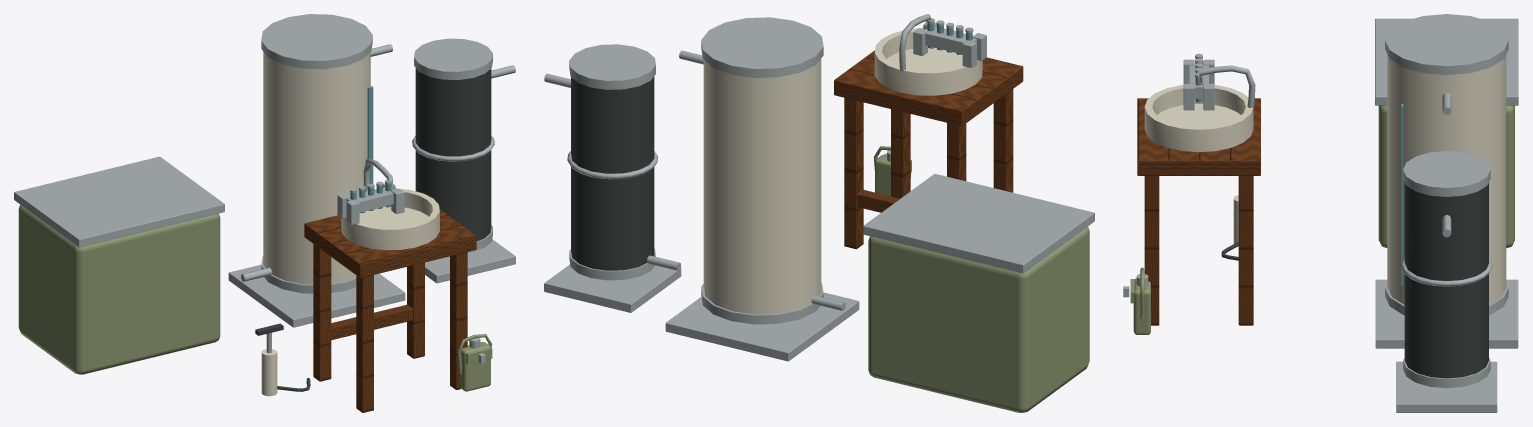
Rendered from water-collection-and-purification-water-treatment-work-0958e146__20212.glb.
3 views of the same model, side by side, from view 1: azimuth 30°, elevation 25°; view 2: azimuth 150°, elevation 25°; view 3: azimuth 270°, elevation 25° (orthographic). The views are drawn at different scales.
Visible parts, largest first — view 1: 000-settling-tank/0, 001-sand-filter-column/0, 003-wash-basin/0, 000-settling-tank/1, 002-charcoal-filter-column/0, 001-sand-filter-column/1, 002-charcoal-filter-column/1, 003-wash-basin/1, 004-sample-vial-rack/0, 005-field-canteen/0, 006-pump-filter/0, 001-sand-filter-column/2; view 2: 000-settling-tank/0, 001-sand-filter-column/0, 002-charcoal-filter-column/0, 003-wash-basin/0, 001-sand-filter-column/1, 000-settling-tank/1, 002-charcoal-filter-column/1, 003-wash-basin/1, 004-sample-vial-rack/0, 005-field-canteen/0, 003-wash-basin/2; view 3: 001-sand-filter-column/0, 002-charcoal-filter-column/0, 001-sand-filter-column/1, 003-wash-basin/0, 002-charcoal-filter-column/1, 003-wash-basin/1, 000-settling-tank/0, 000-settling-tank/1, 004-sample-vial-rack/0, 005-field-canteen/0, 001-sand-filter-column/2, 003-wash-basin/2.
Part boxes in pixels (x1,y1,x2,y2): 000-settling-tank/0: (18,205,220,374); 001-sand-filter-column/0: (263,52,370,284); 003-wash-basin/0: (304,209,476,412); 000-settling-tank/1: (14,156,224,247); 002-charcoal-filter-column/0: (415,68,491,241); 001-sand-filter-column/1: (228,14,405,327); 002-charcoal-filter-column/1: (412,38,515,283); 003-wash-basin/1: (341,188,439,250); 004-sample-vial-rack/0: (337,179,404,224); 005-field-canteen/0: (457,334,492,391); 006-pump-filter/0: (261,349,277,396); 001-sand-filter-column/2: (367,86,373,183); 000-settling-tank/0: (868,226,1089,412); 001-sand-filter-column/0: (703,59,821,314); 002-charcoal-filter-column/0: (571,76,654,270); 003-wash-basin/0: (834,50,1023,249); 001-sand-filter-column/1: (665,17,859,361); 000-settling-tank/1: (863,174,1094,273); 002-charcoal-filter-column/1: (544,44,681,312); 003-wash-basin/1: (874,27,982,95); 004-sample-vial-rack/0: (913,18,986,67); 005-field-canteen/0: (873,146,911,196); 003-wash-basin/2: (899,14,931,72); 001-sand-filter-column/0: (1387,54,1506,304); 002-charcoal-filter-column/0: (1404,182,1488,378); 001-sand-filter-column/1: (1375,14,1518,348); 003-wash-basin/0: (1137,98,1260,325); 002-charcoal-filter-column/1: (1396,151,1497,412); 003-wash-basin/1: (1144,84,1253,152); 000-settling-tank/0: (1378,105,1514,248); 000-settling-tank/1: (1375,18,1518,105); 004-sample-vial-rack/0: (1183,53,1214,110); 005-field-canteen/0: (1133,267,1150,334); 001-sand-filter-column/2: (1400,104,1403,285); 003-wash-basin/2: (1196,65,1255,107).
Size of the model in its own units: 2.4 by 1.24 by 1.6.
6 materials, 1 textured.
